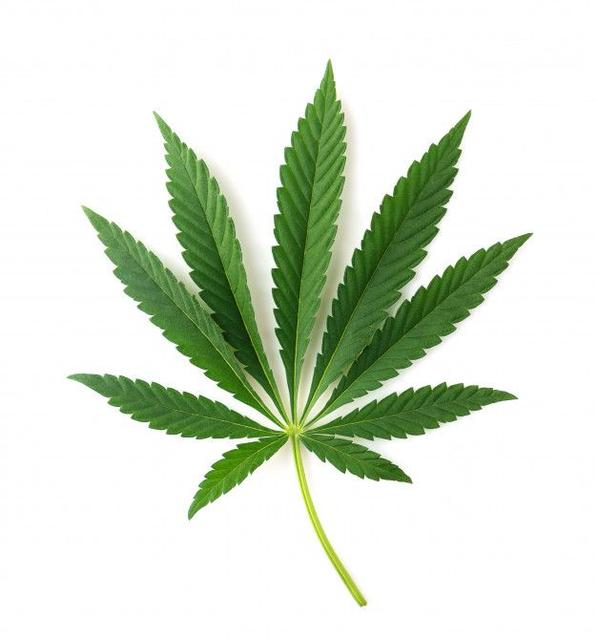Marijuana Bud: (56, 48, 527, 601)
